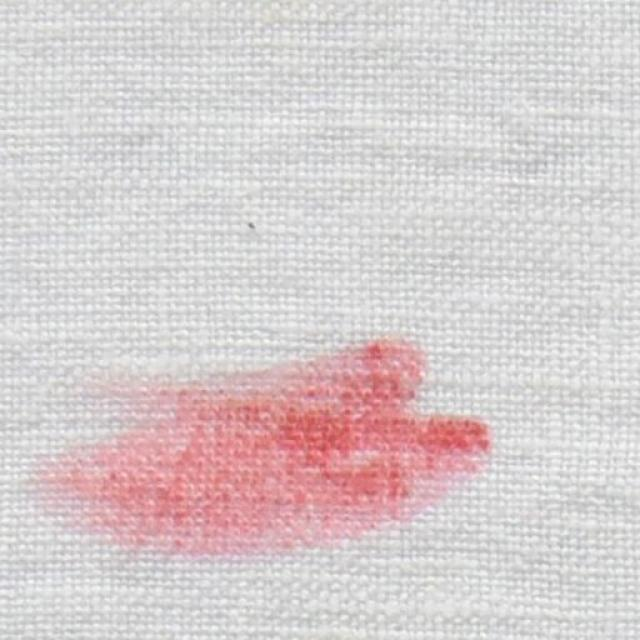Stain: (36, 340, 492, 556)
